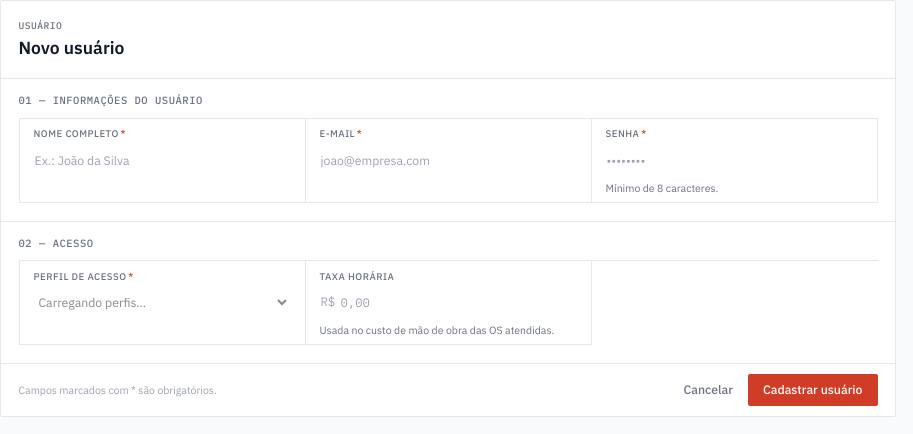
Test case: UserEditPage — taxa horária (dado salarial) › não deve aceitar sinal negativo na taxa horária
Type "-10" into the field labelled "Taxa horária".
click(458, 302); type("-10")  # box x1=340 y1=287 x2=576 y2=317
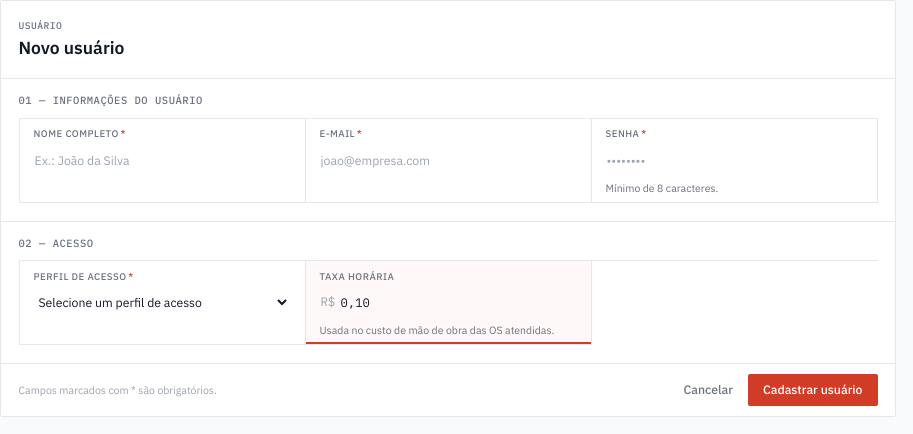
Now the field labelled "Taxa horária" holds "0,10", box x1=340 y1=287 x2=576 y2=317
